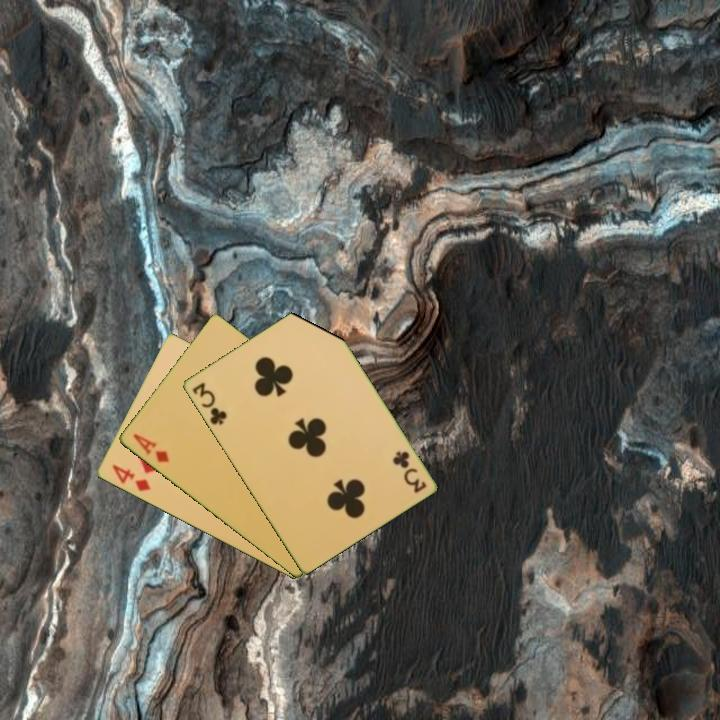3c: (188, 379, 230, 428), (389, 447, 429, 496)
4d: (108, 461, 153, 494)
Ad: (129, 430, 172, 466)
